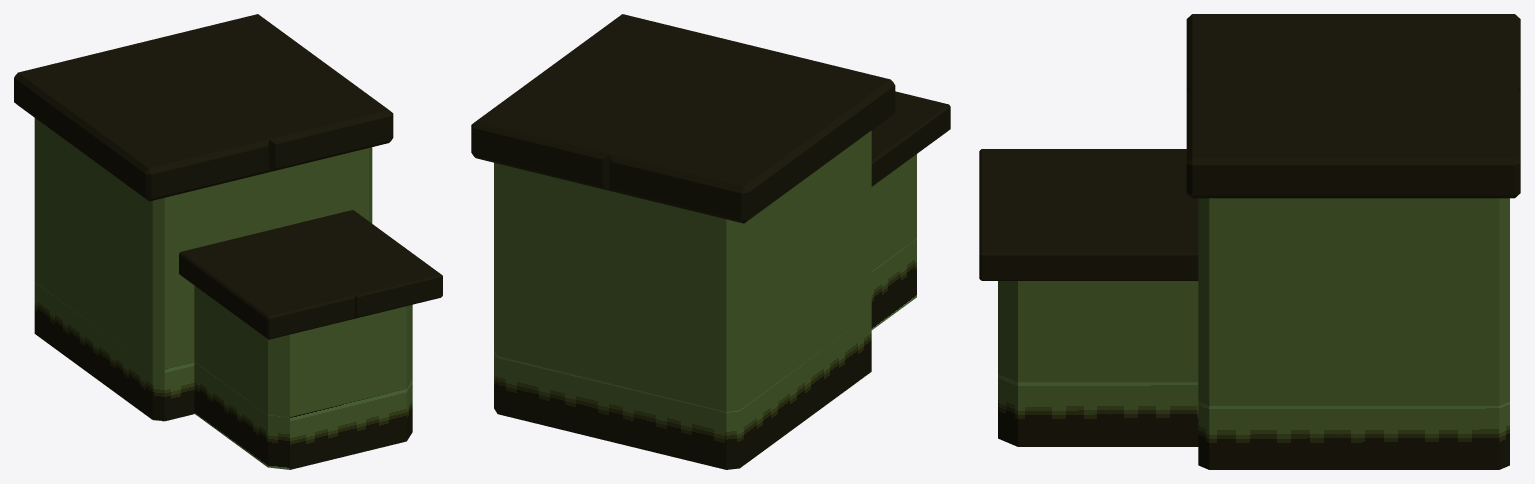
File: PowerGenerator.fbx
3 renders of one model, left to right at view 1: azimuth 30°, elevation 25°; view 2: azimuth 150°, elevation 25°; view 3: azimuth 270°, elevation 25°, orthographic. The views are drawn at different scales.
Visible parts, largest first — view 1: Cube, Cube.001, Cube.002, Cube.003; view 2: Cube, Cube.001, Cube.002, Cube.003; view 3: Cube, Cube.001, Cube.002, Cube.003.
Part boxes in pixels (x1,y1,x2,y2): Cube: [34, 118, 372, 421]; Cube.001: [14, 14, 393, 201]; Cube.002: [194, 285, 412, 469]; Cube.003: [179, 210, 442, 339]; Cube: [494, 130, 871, 469]; Cube.001: [471, 14, 895, 223]; Cube.002: [871, 154, 916, 329]; Cube.003: [871, 91, 950, 186]; Cube: [1198, 198, 1509, 469]; Cube.001: [1186, 14, 1520, 198]; Cube.002: [998, 281, 1198, 446]; Cube.003: [979, 149, 1198, 280].
Size of the model in its own units: 198 by 198 by 305.
